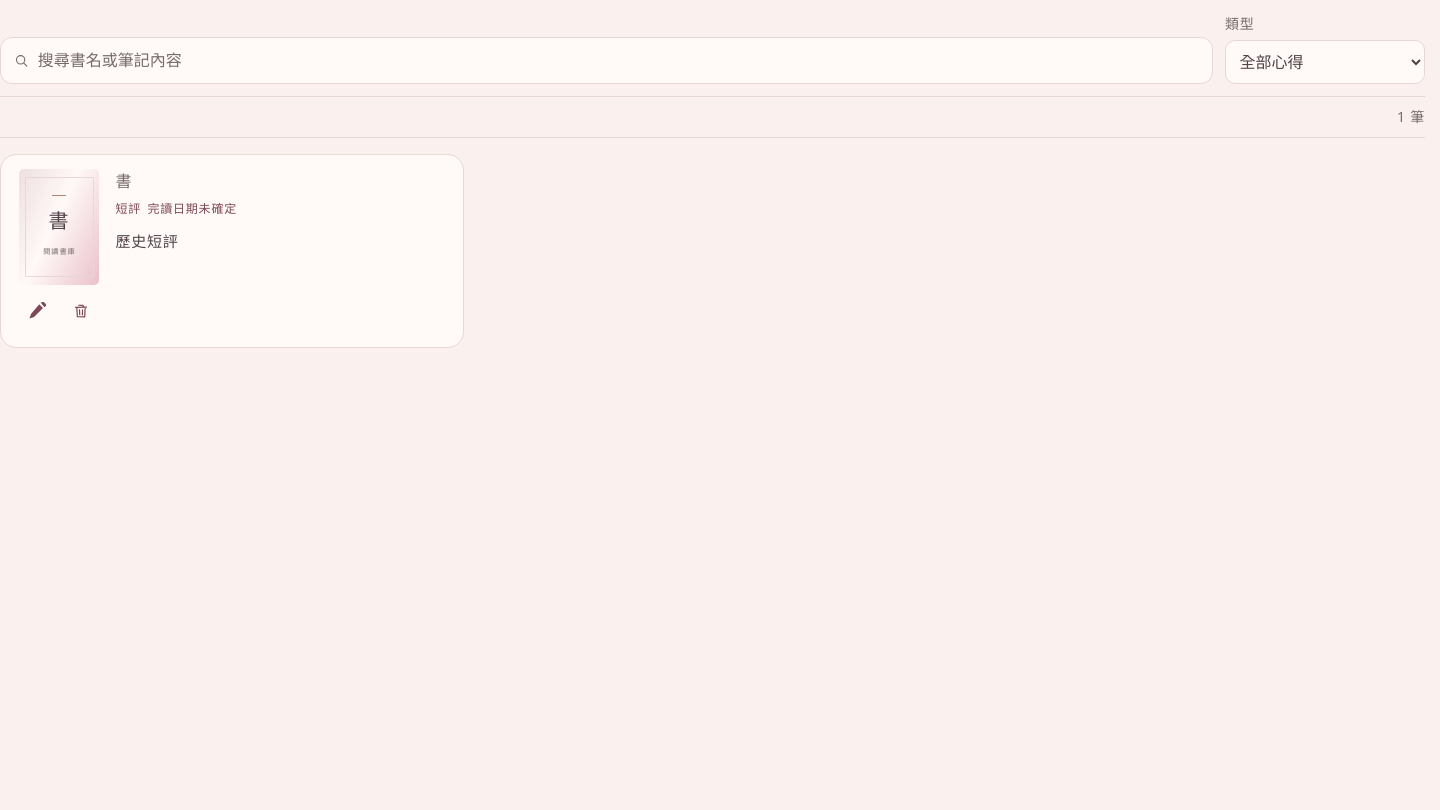
Scenario: reading notes list dates › labels imported reviews without source dates and preserves that after inline editing
expect the text "歷史短評" is shown: met, box [115,231,179,251]
expect the text "完讀日期未確定" is shown: met, box [147,199,237,220]
Click the button named "編輯". click: (37, 311)
box: [15,289,59,333]
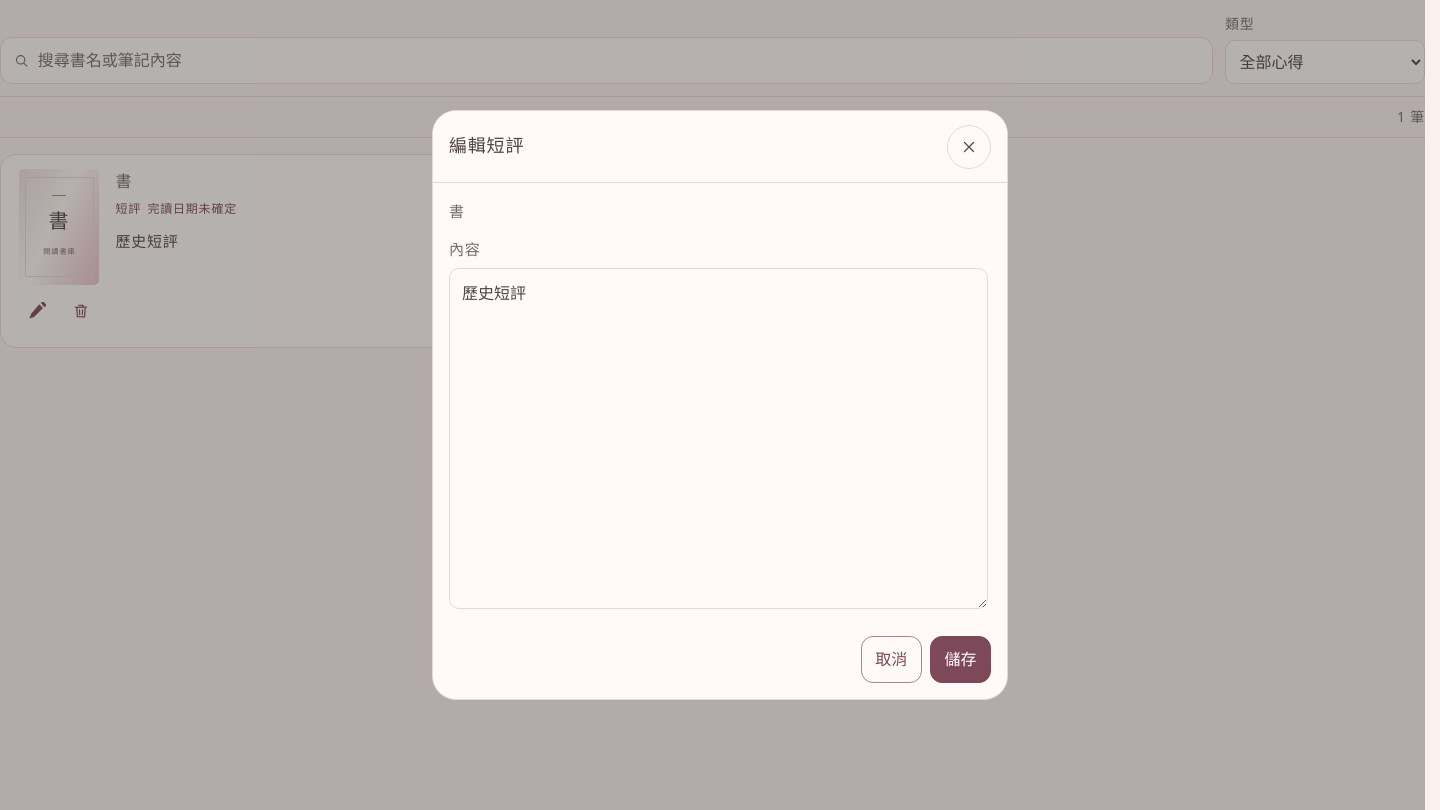
Replace the text in the text box labelled "內容" with "修改短評". click: (718, 438)
box: [449,268,988,609]
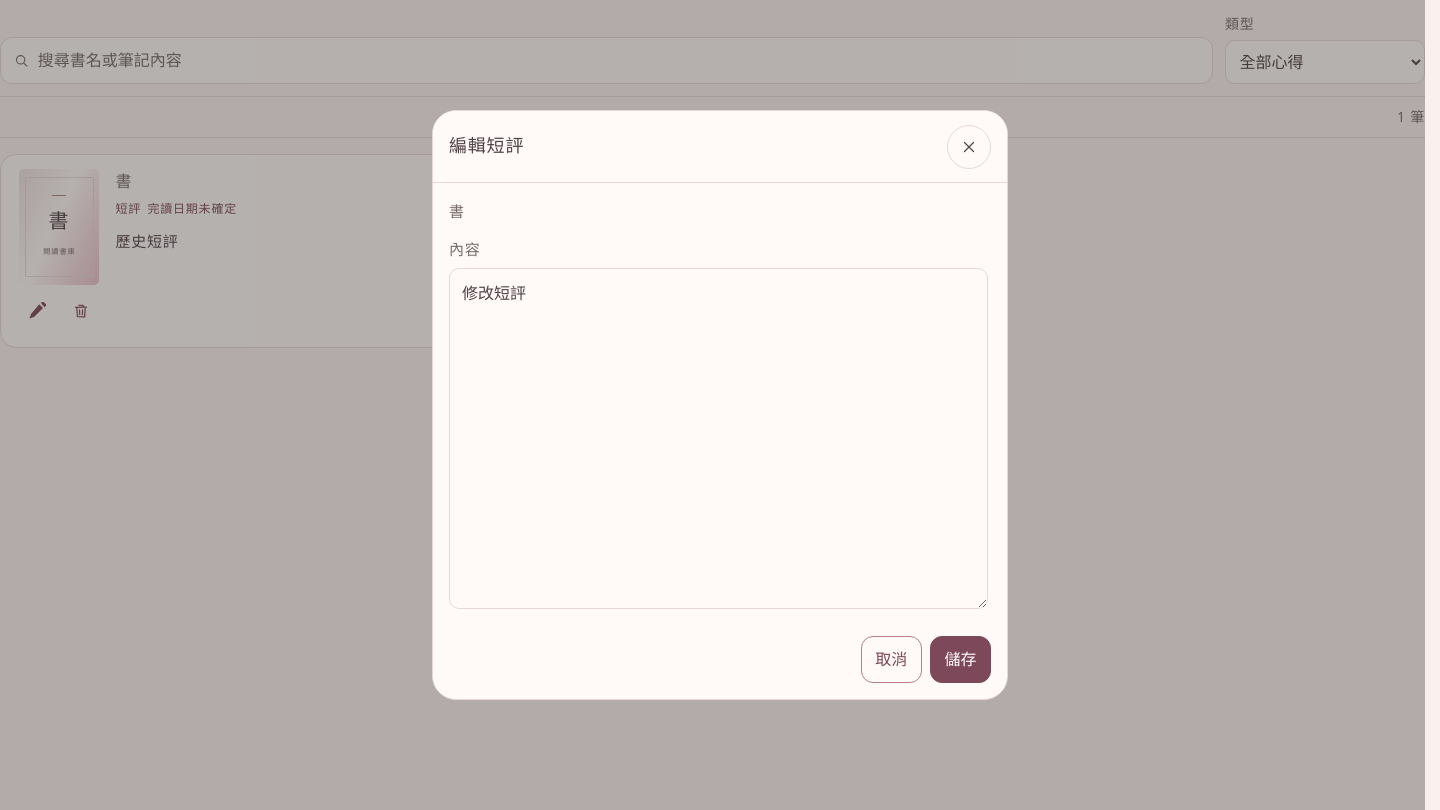
Click the button "儲存". click: (960, 660)
box: [930,636,991,683]
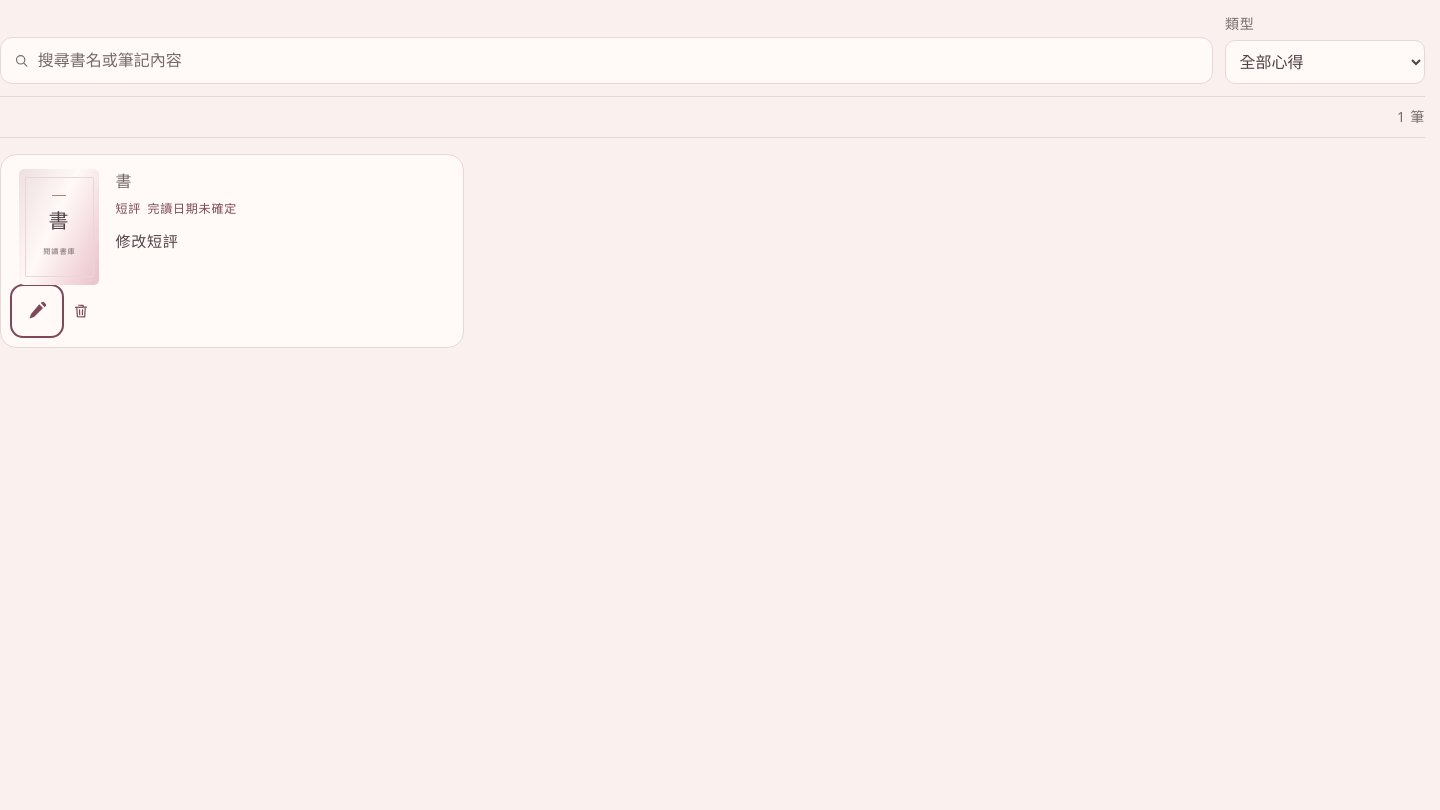
expect the text "完讀日期未確定" is shown: met, box [147,199,237,220]
expect the text "修改短評" is shown: met, box [115,231,179,251]
